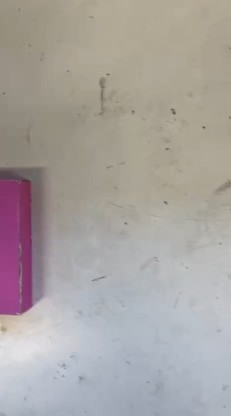pink: (0, 172, 41, 308)
